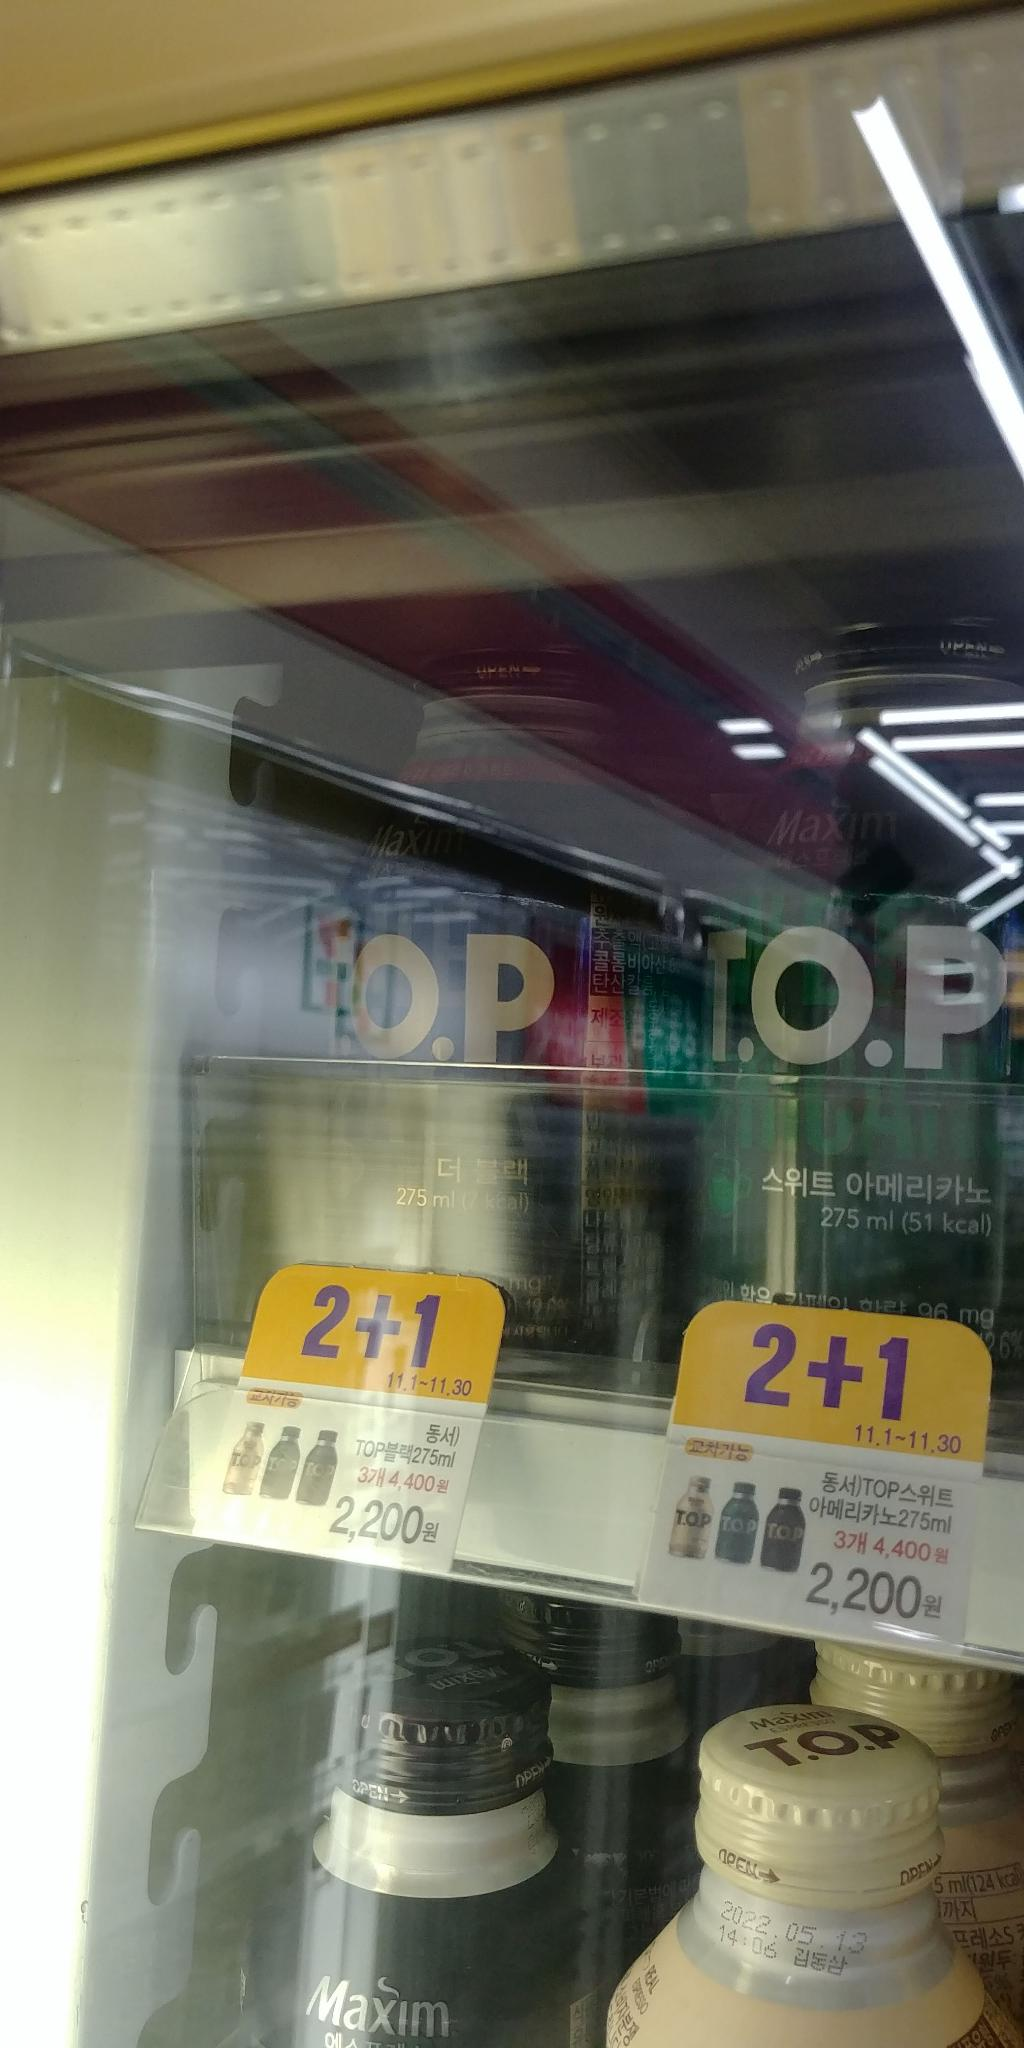TOP_black: (257, 546, 711, 1392)
